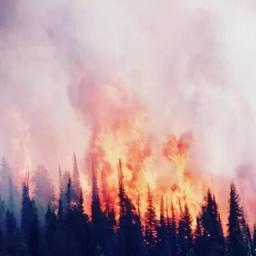Heavy smoke: (1, 3, 255, 200)
Large fire: (76, 111, 220, 236)
